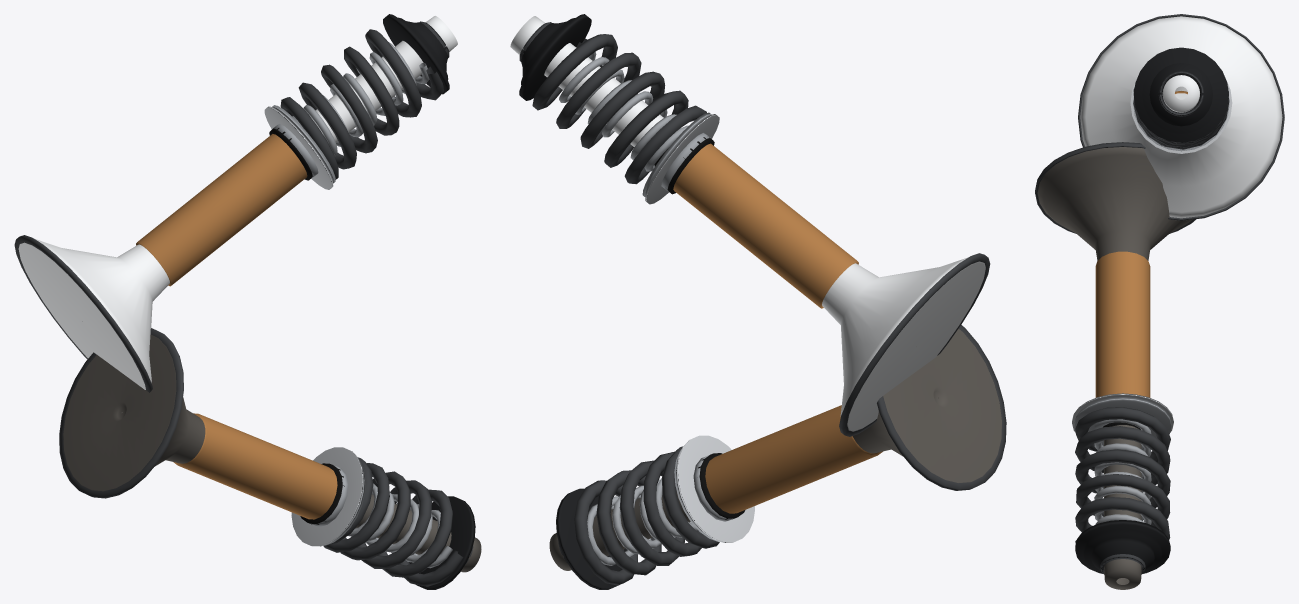
Rendered from valve-set-1.glb.
3 renders of one model, left to right at view 1: azimuth 30°, elevation 25°; view 2: azimuth 150°, elevation 25°; view 3: azimuth 270°, elevation 25°, orthographic. The views are drawn at different scales.
Visible parts, largest first — view 1: valve-set-1:darkSteel, valve-set-1:bronze, valve-set-1:heatSteel, valve-set-1:chrome, valve-set-1:steel, valve-set-1:satinBlack, valve-set-1:polishedSteel, valve-set-1:rubber; view 2: valve-set-1:darkSteel, valve-set-1:bronze, valve-set-1:chrome, valve-set-1:heatSteel, valve-set-1:steel, valve-set-1:satinBlack, valve-set-1:polishedSteel, valve-set-1:rubber; view 3: valve-set-1:chrome, valve-set-1:heatSteel, valve-set-1:darkSteel, valve-set-1:satinBlack, valve-set-1:bronze, valve-set-1:steel, valve-set-1:polishedSteel.
Boxes of the visible parts, x1,y1,x2,y2 form: valve-set-1:darkSteel: (14,21,473,586); valve-set-1:bronze: (136,134,337,519); valve-set-1:heatSteel: (63,334,481,572); valve-set-1:chrome: (18,16,457,389); valve-set-1:steel: (272,42,452,568); valve-set-1:satinBlack: (383,14,475,589); valve-set-1:polishedSteel: (264,106,363,546); valve-set-1:rubber: (269,128,344,524); valve-set-1:darkSteel: (519,22,1006,585); valve-set-1:bronze: (673,143,882,513); valve-set-1:chrome: (510,16,985,431); valve-set-1:heatSteel: (549,328,1001,570); valve-set-1:steel: (559,47,733,565); valve-set-1:satinBlack: (519,14,625,589); valve-set-1:polishedSteel: (645,114,754,542); valve-set-1:rubber: (654,137,745,519); valve-set-1:chrome: (1080,16,1282,218); valve-set-1:heatSteel: (1037,147,1191,589); valve-set-1:darkSteel: (1035,14,1284,574); valve-set-1:satinBlack: (1075,47,1228,573); valve-set-1:bronze: (1095,91,1187,397); valve-set-1:steel: (1074,96,1229,524); valve-set-1:polishedSteel: (1072,77,1232,432).
Size of the model in its own units: 112 by 141 by 59.82.
